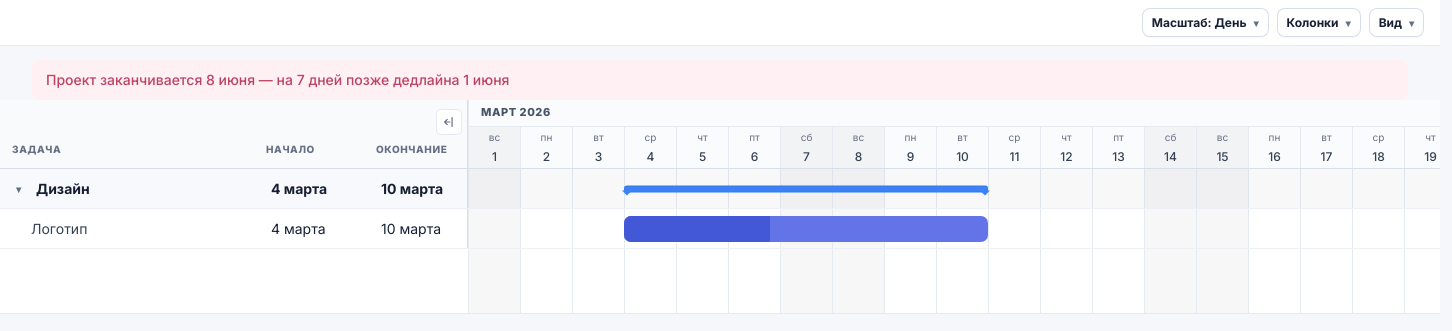
свёртка таблицы › возвращает те же колонки, что были: свёртка — про место, а не про выбор
The width and height of the screenshot is (1452, 331).
Click the button named "Свернуть таблицу задач".
click(449, 122)  # box [436, 109, 462, 135]
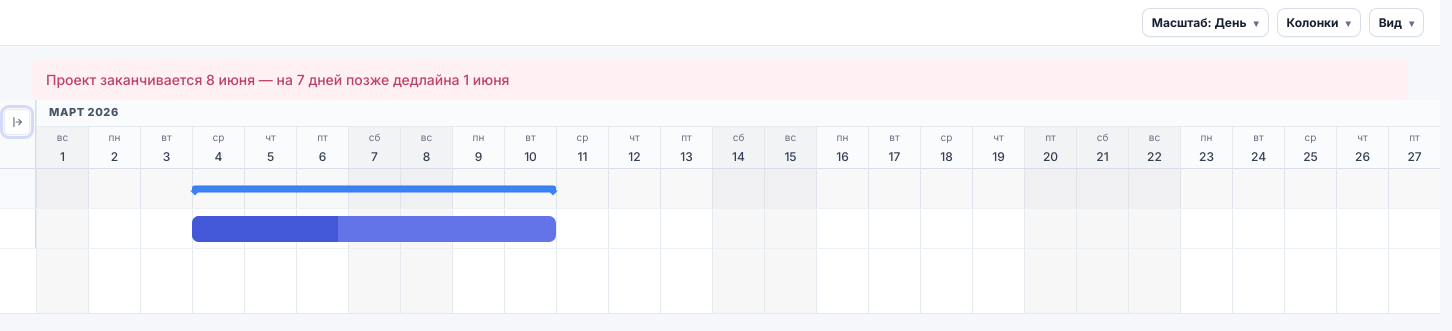
Click the button named "Развернуть таблицу задач".
click(17, 122)  # box [4, 109, 30, 135]
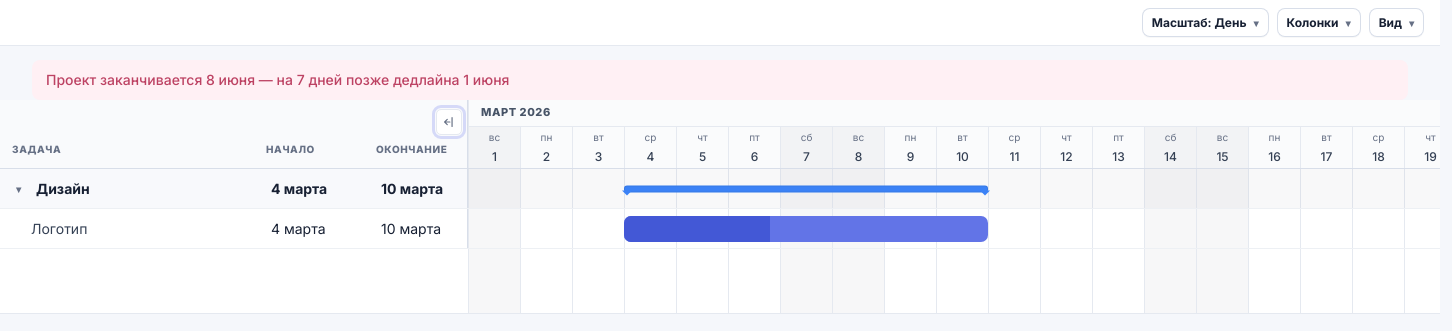
Check: the text "Логотип" is shown, box [31, 220, 87, 237]
Check: the text "Окончание" is shown, box [376, 142, 447, 156]
